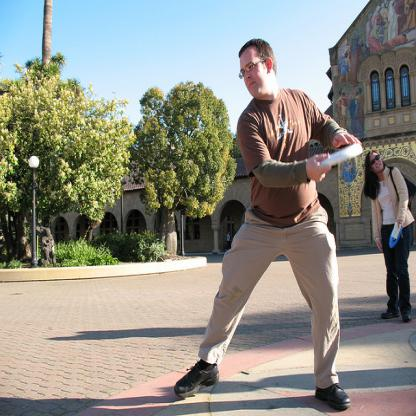handbag: (387, 166, 416, 209)
